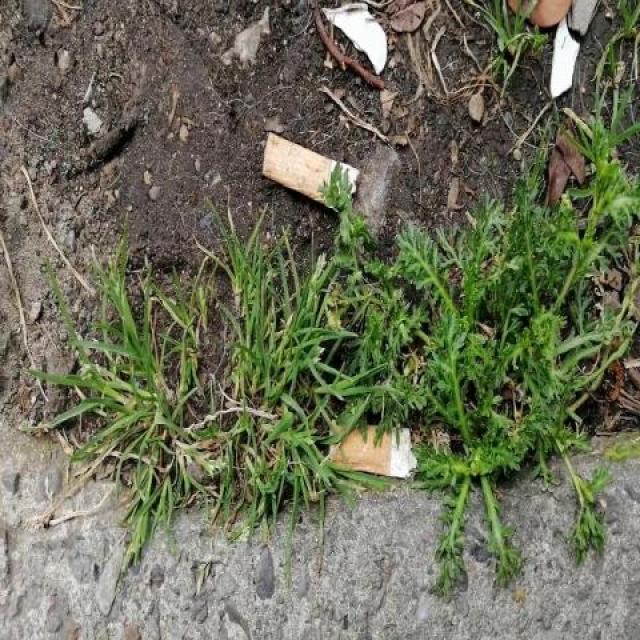non-organic waste: (257, 127, 367, 216), (322, 414, 422, 489)
